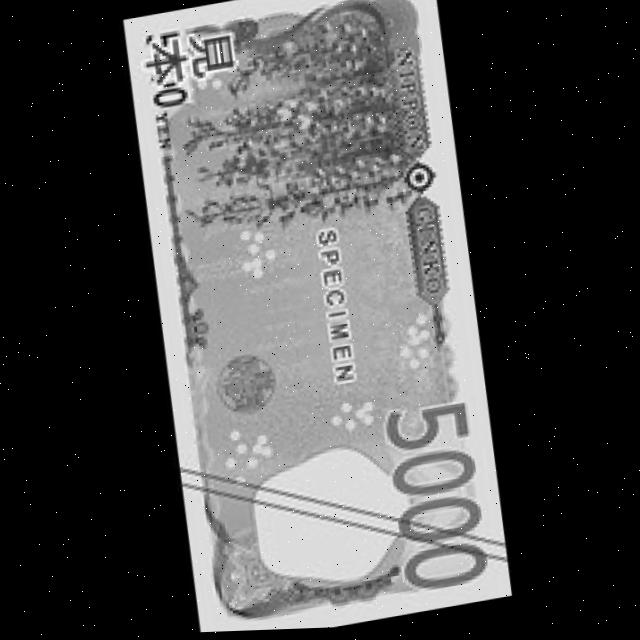banknote: (116, 0, 523, 636)
